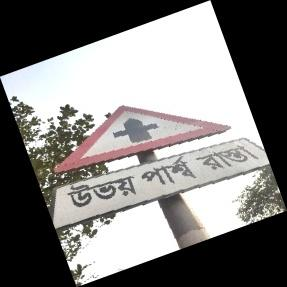Crossroad: (45, 95, 278, 232)
